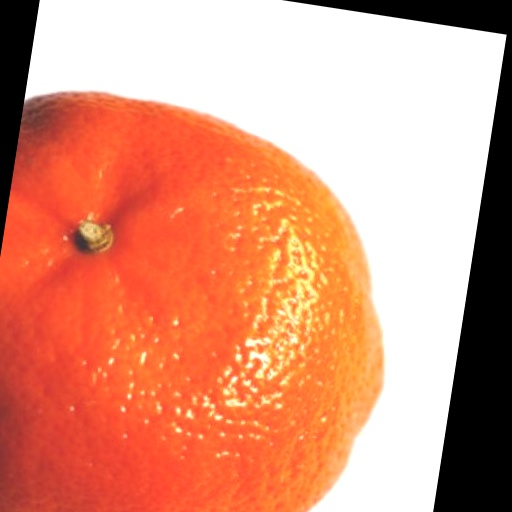fruit: (0, 93, 382, 512)
